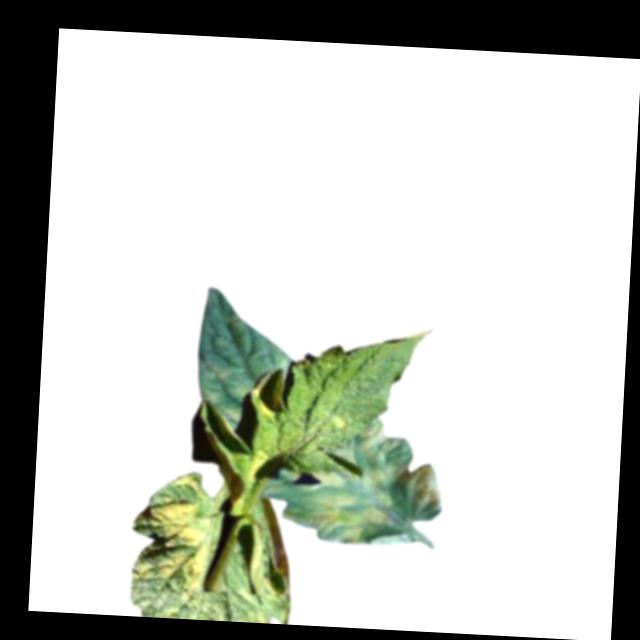Leaf_Mold: (280, 414, 448, 546), (133, 467, 219, 595), (195, 359, 252, 432), (252, 369, 288, 420)
